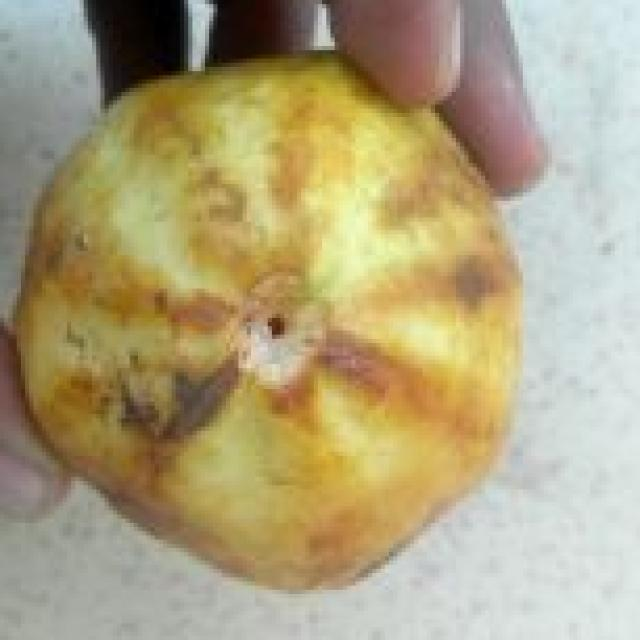Bad_Guava 0 day: (15, 54, 521, 587)
